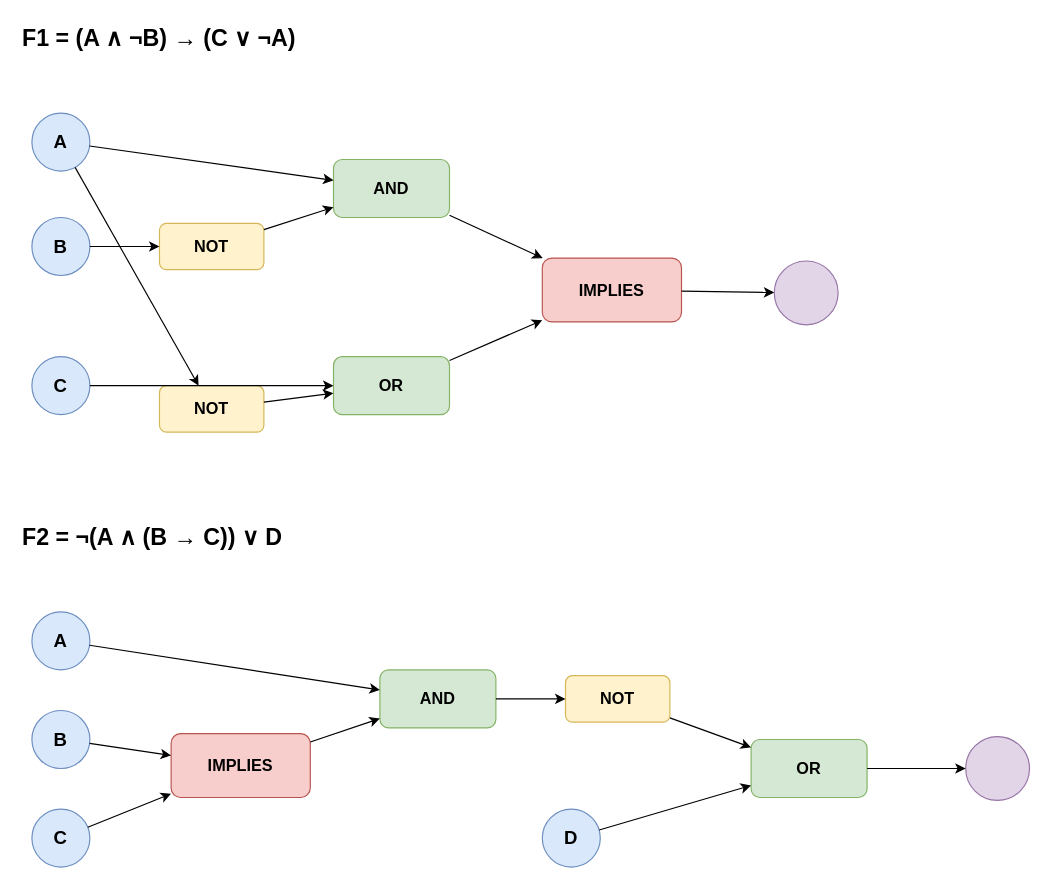
Image size: 1050x887. Some labels were removed from this diagram. Here are the shapes that lost their labels. From the top down, the box of each, then its label:
(773, 260, 838, 325): F1
(965, 735, 1030, 800): F2
